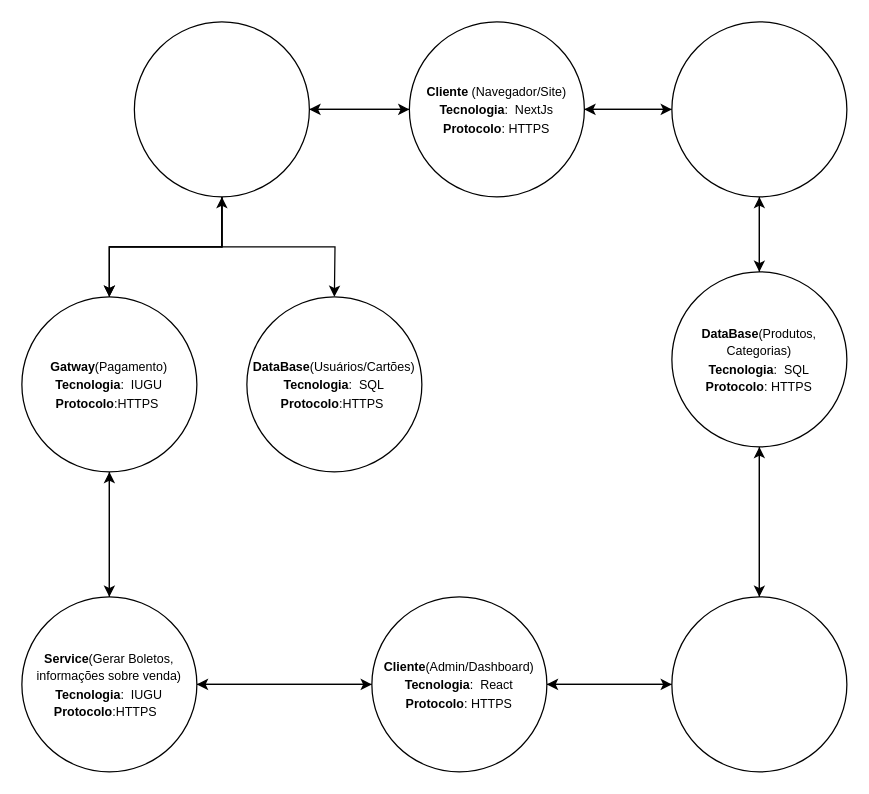
Image size: 869x794. Some labels were removed from this diagram. Here are the shapes that lost their labels. From the top down, the box of each, then its label:
(133, 21, 309, 197): Servidor (API/Security) Tecnologia : NodeJs Protocolo : HTTPS
(671, 21, 847, 197): Servidor (API/Navegador) Tecnologia : NodeJS Protocolo : HTTPS
(671, 596, 847, 772): Servidor (API/Admin) Tecnologia : Node Protocolo : HTTPS
